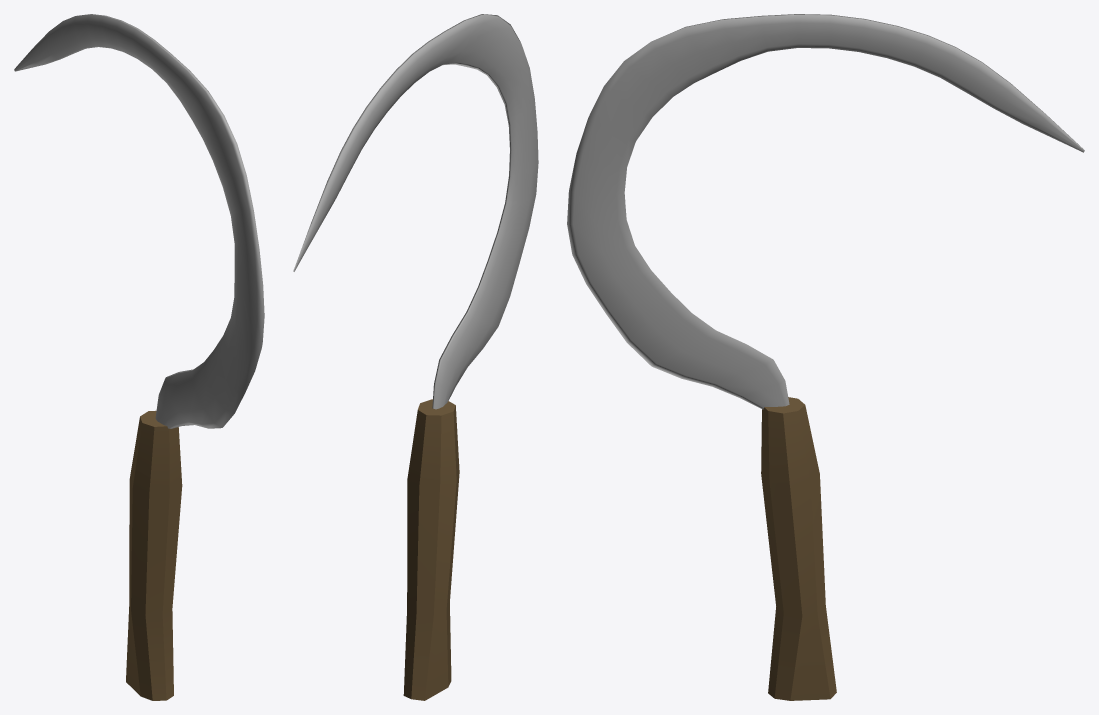
File: sickle.fbx
The picture shows the model from 3 angles, left to right: view 1: azimuth 30°, elevation 25°; view 2: azimuth 150°, elevation 25°; view 3: azimuth 270°, elevation 25°; orthographic projection. The views are drawn at different scales.
Parts seen in each view (by area): view 1: sickle; view 2: sickle; view 3: sickle.
Boxes of the visible parts, bbox=[...] form: sickle: bbox=[14, 14, 264, 700]; sickle: bbox=[293, 14, 538, 700]; sickle: bbox=[567, 14, 1084, 700].
Size of the model in its own units: 0.2655 by 3.55 by 2.45.
